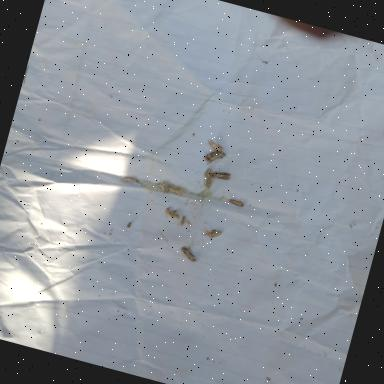pbw: (204, 148, 228, 165), (178, 244, 200, 262), (210, 168, 233, 183), (206, 140, 225, 152), (227, 196, 246, 207), (207, 228, 224, 240), (166, 186, 185, 195), (164, 206, 175, 220), (121, 174, 136, 184), (204, 176, 214, 188), (172, 210, 183, 220), (204, 166, 213, 178), (180, 214, 187, 226)
